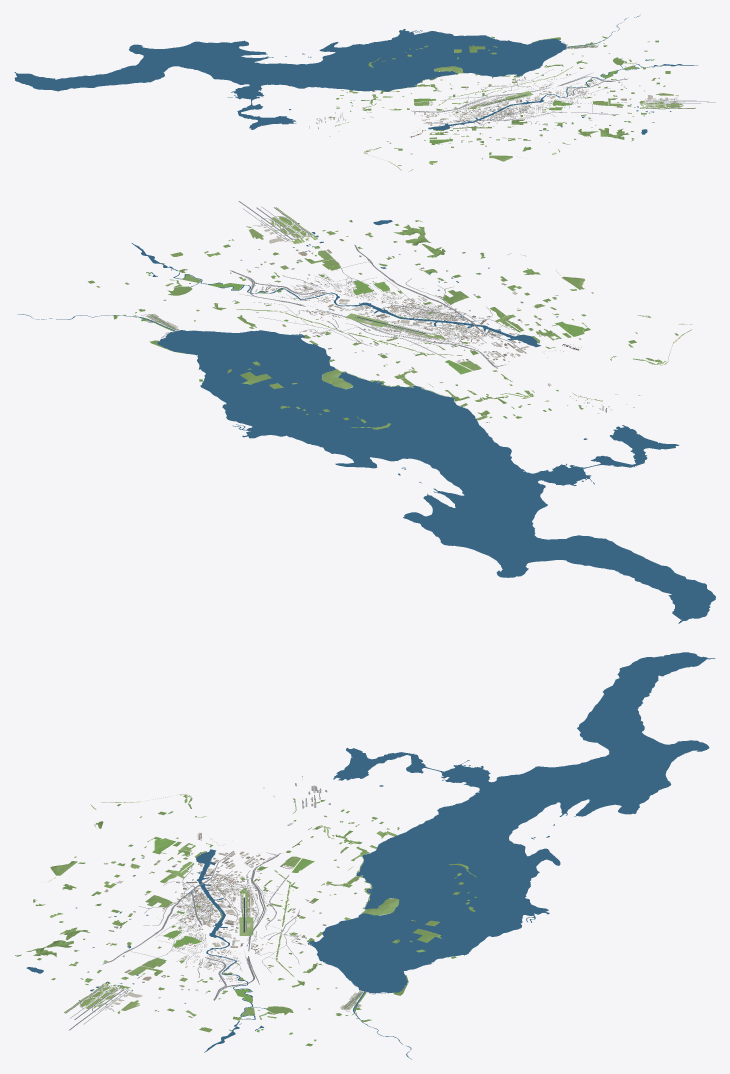
File: land.glb
3 views of the same model, one above another, from view 1: azimuth 30°, elevation 25°; view 2: azimuth 150°, elevation 25°; view 3: azimuth 270°, elevation 25° (orthographic). The views are drawn at different scales.
Parts seen in each view (by area): view 1: decal-ponds, decal-area-green, decal-roads, buildings, buildings-1, decal-real-taxiways; view 2: decal-ponds, decal-area-green, decal-roads, buildings, buildings-1, decal-real-taxiways; view 3: decal-ponds, decal-area-green, decal-roads, buildings, buildings-1, decal-real-taxiways, decal-streets.
Part boxes in pixels (<box>): decal-ponds: <box>14,14,697,142</box>; decal-area-green: <box>329,36,694,171</box>; decal-roads: <box>411,69,628,127</box>; buildings: <box>309,82,539,138</box>; buildings-1: <box>489,67,630,128</box>; decal-real-taxiways: <box>471,41,715,108</box>; decal-ponds: <box>18,220,715,623</box>; decal-area-green: <box>88,207,691,429</box>; decal-roads: <box>230,244,526,368</box>; buildings: <box>354,281,640,413</box>; buildings-1: <box>232,249,448,349</box>; decal-real-taxiways: <box>141,201,439,339</box>; decal-ponds: <box>26,652,715,1059</box>; decal-area-green: <box>15,794,476,1046</box>; decal-roads: <box>102,851,305,1000</box>; buildings: <box>104,776,330,916</box>; buildings-1: <box>108,915,326,993</box>; decal-real-taxiways: <box>65,890,385,1030</box>; decal-streets: <box>172,880,273,971</box>.
Bounding box in the file's own units: 105399 × 890 × 76717.
